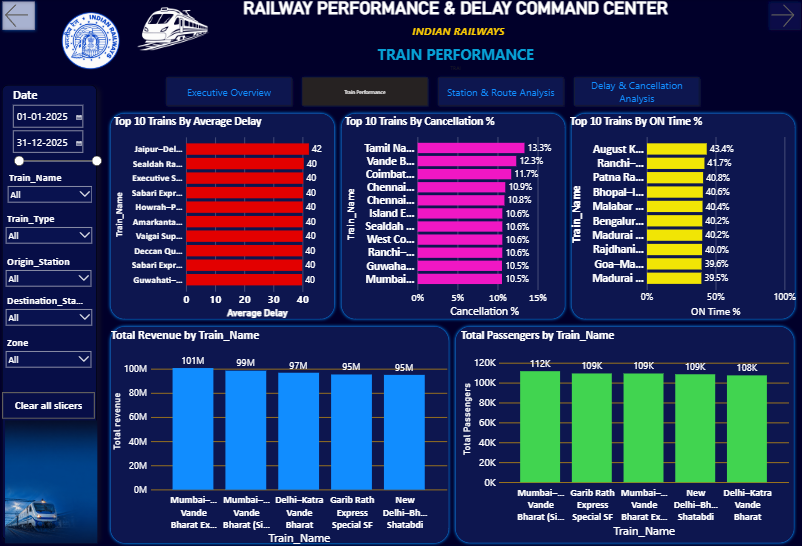

What the dashboard file says about the page in this screenshot:
{"tool":"powerbi","page":{"name":"Train Performance","canvas":[2050,1400],"ordinal":1},"visuals":[{"type":"textbox","title":"RAILWAY PERFORMANCE & DELAY COMMAND CENTER","box":[417.2,0,1489.6,193.2],"z":0},{"type":"image","box":[148.2,0,247,221],"z":1000},{"type":"textbox","box":[8.4,221.2,240.8,1159.2],"z":2000},{"type":"slicer","fields":{"Values":["Train_operations.Travel_Date"]},"box":[23.4,221,247,267.8],"z":3000},{"type":"slicer","fields":{"Values":["Trains.Train_Name"]},"box":[13,434.2,234,106.6],"z":4000},{"type":"image","box":[14,1069.6,235.2,324.8],"z":5000},{"type":"slicer","fields":{"Values":["Routes.Destination_Station"]},"box":[7.8,748.8,239.2,106.6],"z":6000},{"type":"slicer","fields":{"Values":["Routes.Origin_Station"]},"box":[7.8,650,236.6,96.2],"z":7000},{"type":"slicer","fields":{"Values":["Trains.Train_Type"]},"box":[7.8,540.8,239.2,109.2],"z":8000},{"type":"slicer","fields":{"Values":["Stations.Zone"]},"box":[7.8,855.4,236.6,117],"z":9000},{"type":"shape","box":[274.4,285.6,587.6,540.8],"z":10000},{"type":"shape","box":[862.4,285.6,586.5,540.7],"z":11000},{"type":"shape","box":[274.4,826,878.8,569.4],"z":12000},{"type":"shape","box":[1447.6,285.6,586.5,540.7],"z":13000},{"type":"clusteredBarChart","title":"Top 10 Trains By  Average Delay ","fields":{"Category":["Trains.Train_Name"],"Y":["ALL Measures.Average Delay"]},"box":[288.4,294,573,524.6],"z":14000},{"type":"clusteredBarChart","title":"Top 10 Trains By ON Time % ","fields":{"Category":["Trains.Train_Name"],"Y":["ALL Measures.ON Time %"]},"box":[1447.6,294,586.5,524.6],"z":15000},{"type":"shape","box":[1153.6,826,879.2,568.4],"z":16000},{"type":"clusteredBarChart","title":"Top 10 Trains By Cancellation % ","fields":{"Category":["Trains.Train_Name","Train_operations.Train_ID"],"Y":["ALL Measures.Cancellation %"]},"box":[876.4,294,559.6,524.6],"z":17000},{"type":"image","box":[348.4,0,189.8,156],"z":18000},{"type":"clusteredColumnChart","title":"Total Revenue by Train_Name","fields":{"Category":["Trains.Train_Name"],"Y":["ALL Measures.Total revenue"]},"box":[280,840,866.3,559.6],"z":19000},{"type":"clusteredColumnChart","fields":{"Category":["Trains.Train_Name"],"Y":["ALL Measures.Total Passengers"]},"box":[1170.4,840,845,540.8],"z":20000},{"type":"actionButton","box":[1950,0,100,90],"z":21000},{"type":"actionButton","box":[0,0,100,90],"z":22000},{"type":"pageNavigator","box":[417.2,193.2,1374.8,89.6],"z":23000},{"type":"actionButton","box":[8.4,1002.4,236.6,68.4],"z":24000}]}

Visuals, with their boxes in screenshot pixels (x1, y1, x2, y2), scaled from the page's 2050x1400 canvas onto the 802x546 screenshot:
"RAILWAY PERFORMANCE & DELAY COMMAND CENTER" textbox: 163 0 746 75
image: 58 0 155 86
textbox: 3 86 97 538
slicer - Train_operations.Travel_Date: 9 86 106 191
slicer - Trains.Train_Name: 5 169 97 211
image: 5 417 97 544
slicer - Routes.Destination_Station: 3 292 97 334
slicer - Routes.Origin_Station: 3 254 96 291
slicer - Trains.Train_Type: 3 211 97 254
slicer - Stations.Zone: 3 334 96 379
shape: 107 111 337 322
shape: 337 111 567 322
shape: 107 322 451 544
shape: 566 111 796 322
"Top 10 Trains By  Average Delay " clusteredBarChart: 113 115 337 319
"Top 10 Trains By ON Time % " clusteredBarChart: 566 115 796 319
shape: 451 322 795 544
"Top 10 Trains By Cancellation % " clusteredBarChart: 343 115 562 319
image: 136 0 211 61
"Total Revenue by Train_Name" clusteredColumnChart: 110 328 448 545
clusteredColumnChart - Trains.Train_Name x ALL Measures.Total Passengers: 458 328 788 539
actionButton: 763 0 801 35
actionButton: 0 0 39 35
pageNavigator: 163 75 701 110
actionButton: 3 391 96 418
